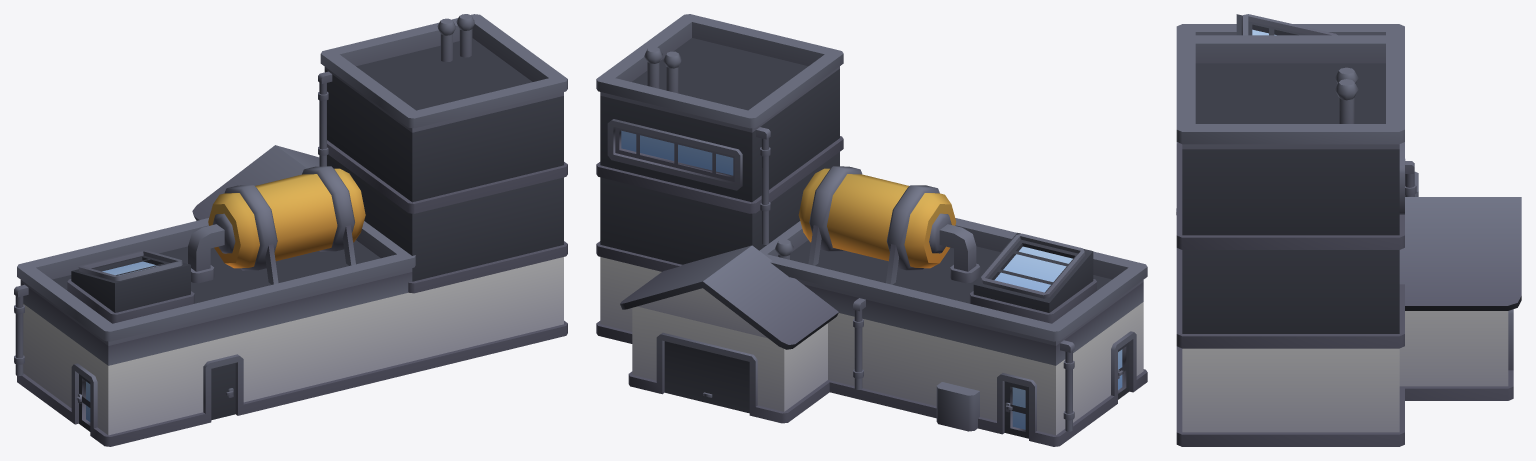
Rendered from building-r.glb.
3 renders of one model, left to right at view 1: azimuth 30°, elevation 25°; view 2: azimuth 150°, elevation 25°; view 3: azimuth 270°, elevation 25°, orthographic. The views are drawn at different scales.
Parts seen in each view (by area): view 1: building-r; view 2: building-r; view 3: building-r.
Boxes of the visible parts, box(x1,y1,x2,y2) form: building-r: box(14, 14, 567, 446); building-r: box(596, 14, 1147, 446); building-r: box(1176, 14, 1521, 446).
Bounding box in the file's own units: 2.48 × 1.39 × 1.27.
